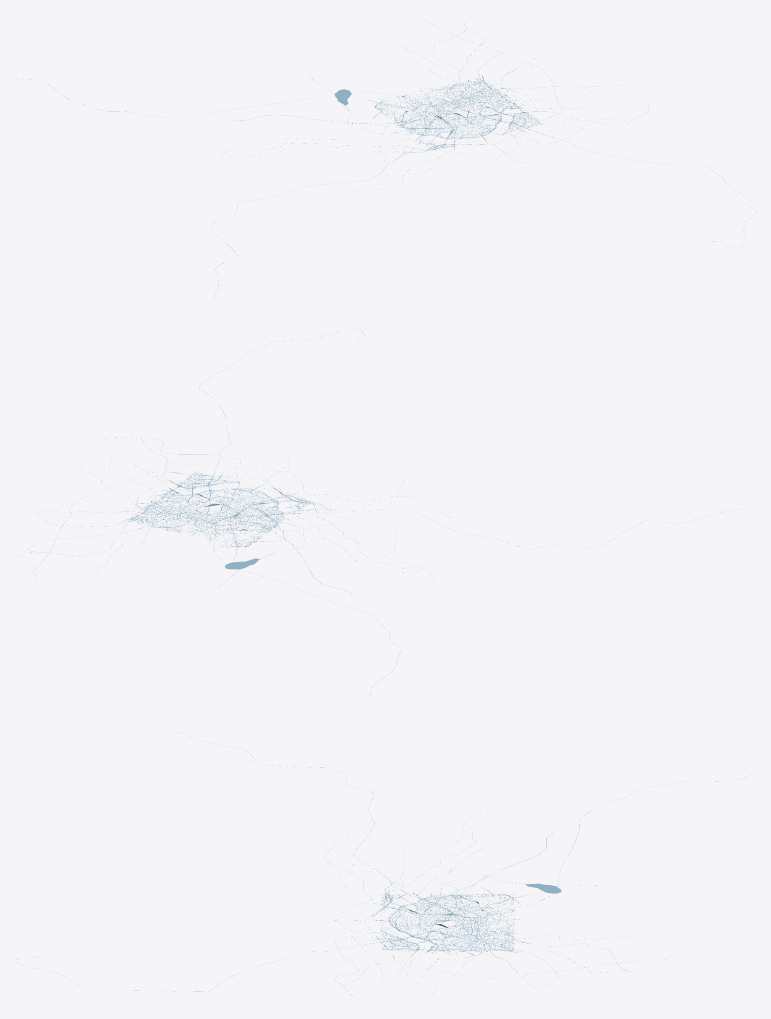
The model's file is roads.glb.
The picture shows the model from 3 angles, top to bottom: view 1: azimuth 30°, elevation 25°; view 2: azimuth 150°, elevation 25°; view 3: azimuth 270°, elevation 25°; orthographic projection. The views are drawn at different scales.
Parts seen in each view (by area): view 1: roads; view 2: roads; view 3: roads.
Part boxes in pixels (x1,y1,x2,y2): roads: (16,21,756,296); roads: (19,329,739,695); roads: (16,733,754,1004).
Bounding box in the file's own units: 44017 × 321 × 50559.
